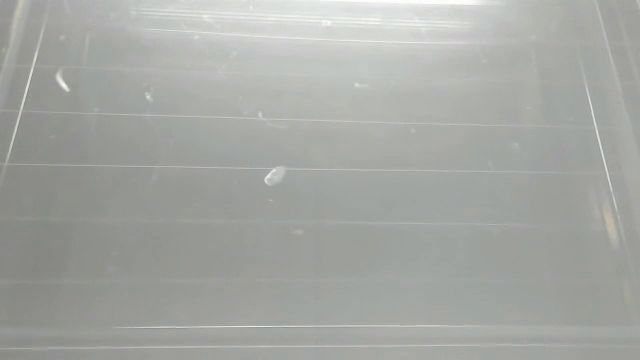alpha: (259, 164, 291, 189), (52, 67, 77, 94)
